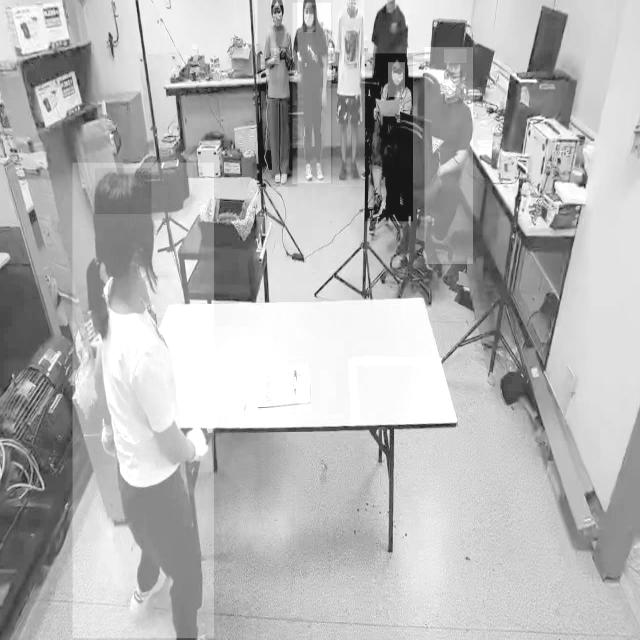face_mask: (443, 67, 463, 105), (388, 62, 406, 98), (303, 0, 316, 33), (270, 8, 284, 33)
hand_glove: (189, 422, 213, 473)
hand_noglove: (270, 48, 280, 65), (320, 88, 328, 108), (279, 46, 287, 60), (332, 66, 338, 84)
head_nohelmet: (95, 168, 152, 215), (444, 49, 467, 64), (391, 44, 407, 61), (270, 0, 284, 6), (303, 0, 317, 6)
person: (72, 163, 214, 639), (424, 47, 474, 265), (365, 54, 413, 222), (258, 0, 298, 188), (292, 3, 332, 184), (333, 0, 365, 188)
shoes: (131, 554, 171, 611), (369, 186, 387, 221), (348, 155, 362, 181), (338, 156, 348, 185), (302, 162, 314, 185), (279, 166, 291, 187), (314, 160, 324, 183), (270, 165, 280, 187)
